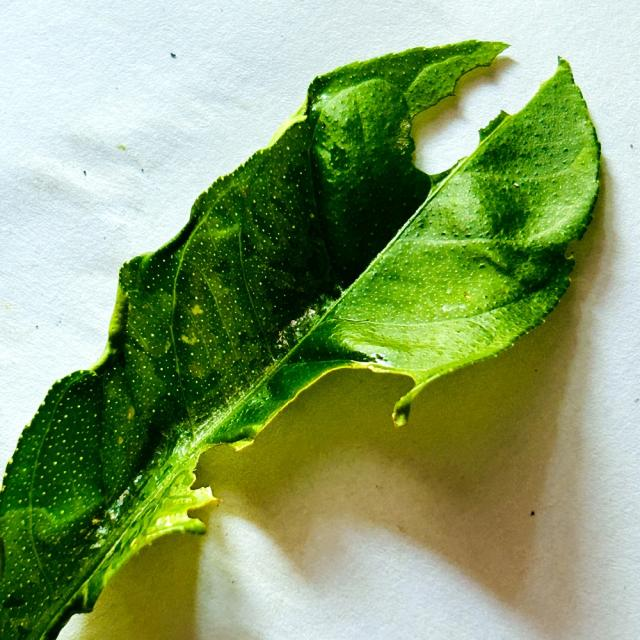Deficiency Leaf: (55, 370, 409, 638), (403, 47, 564, 173)
Lemon: (0, 40, 600, 639)
